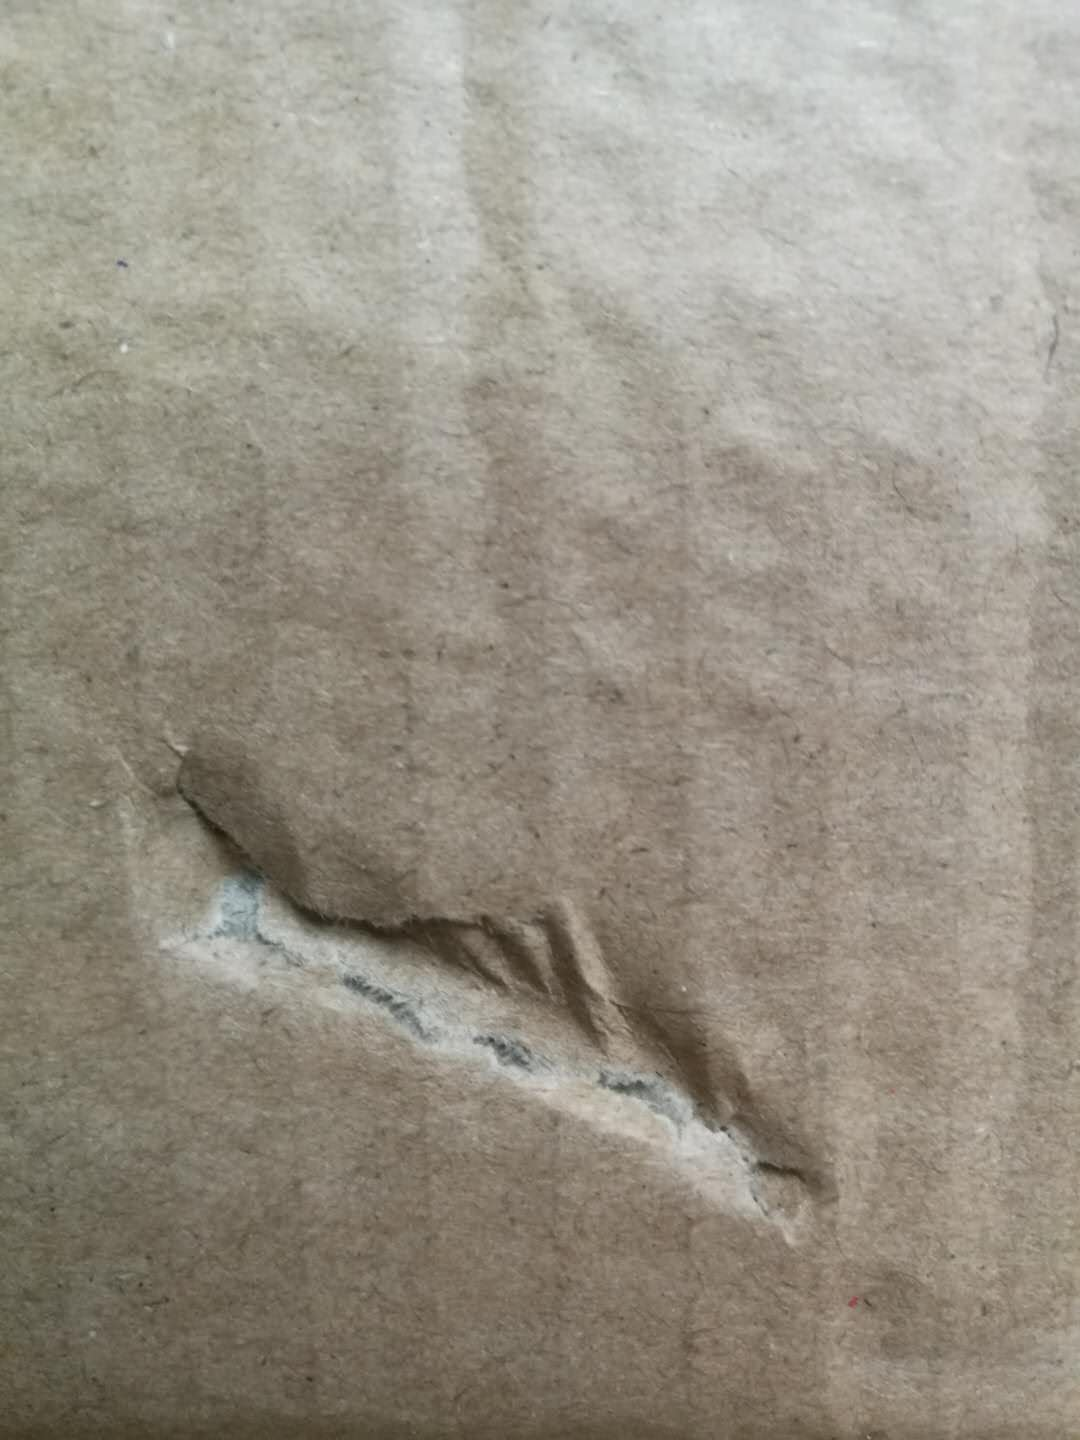defect: (52, 681, 900, 1278)
